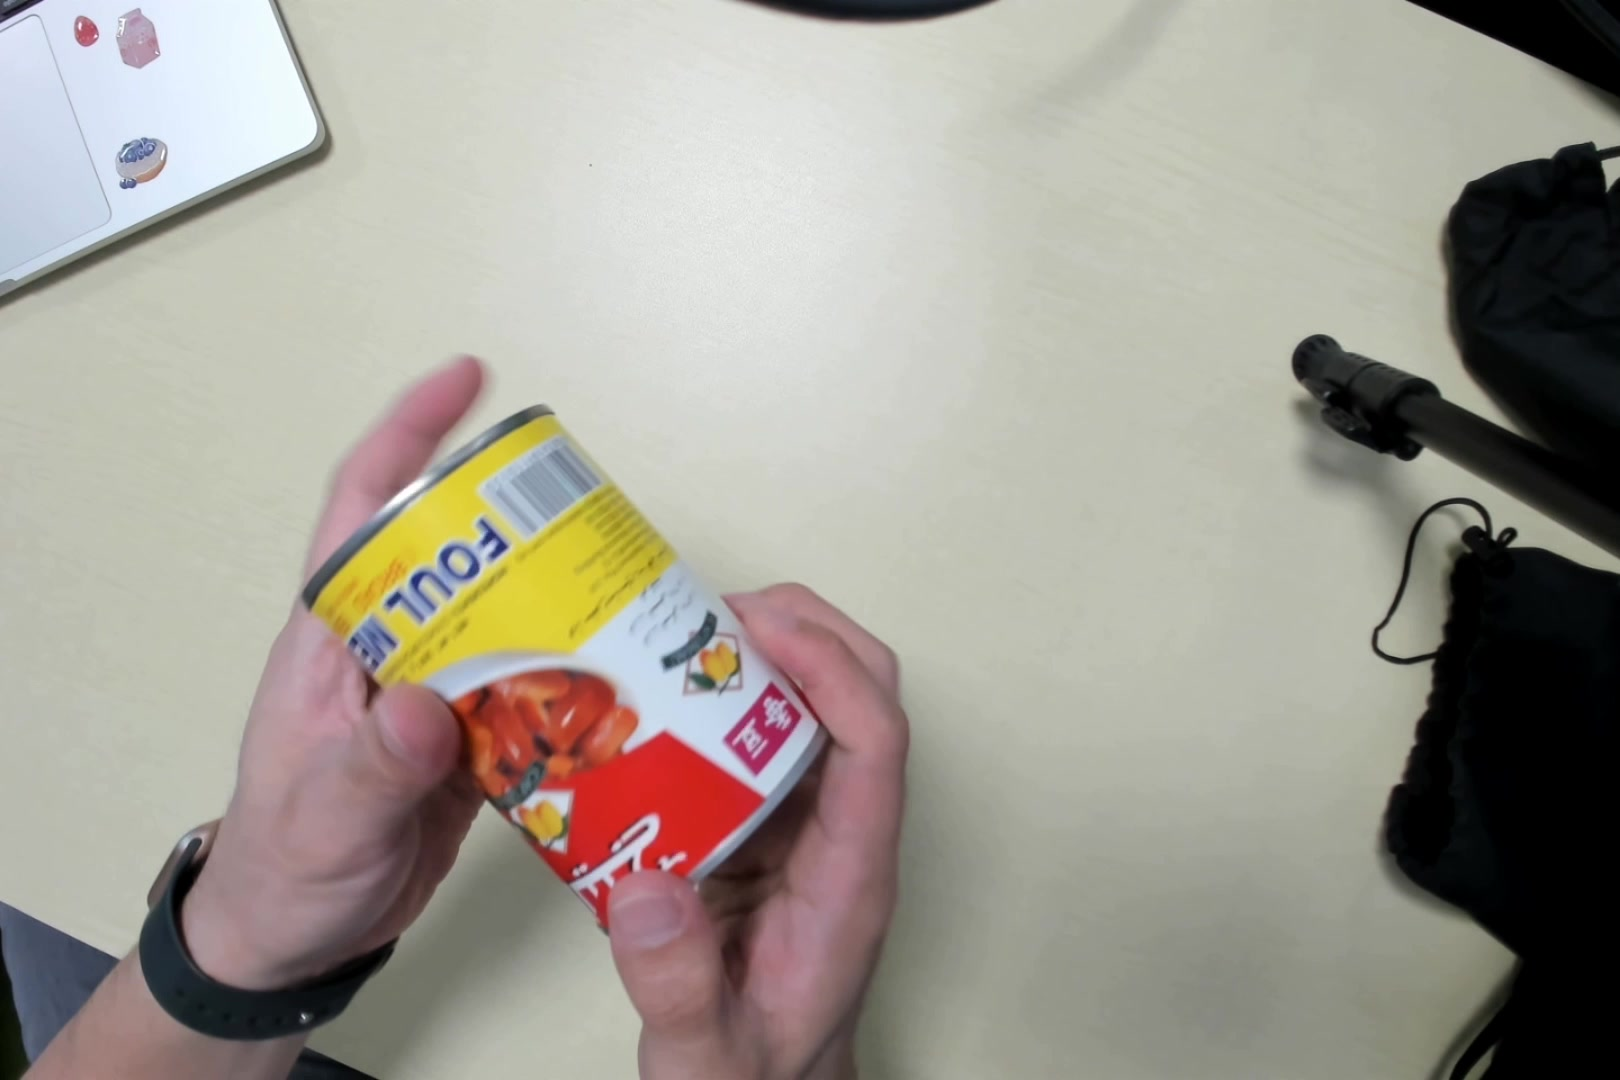OtherCannedBeansPeasPeanuts_400-499g_Halal_NonHealthy: (319, 400, 821, 922)
